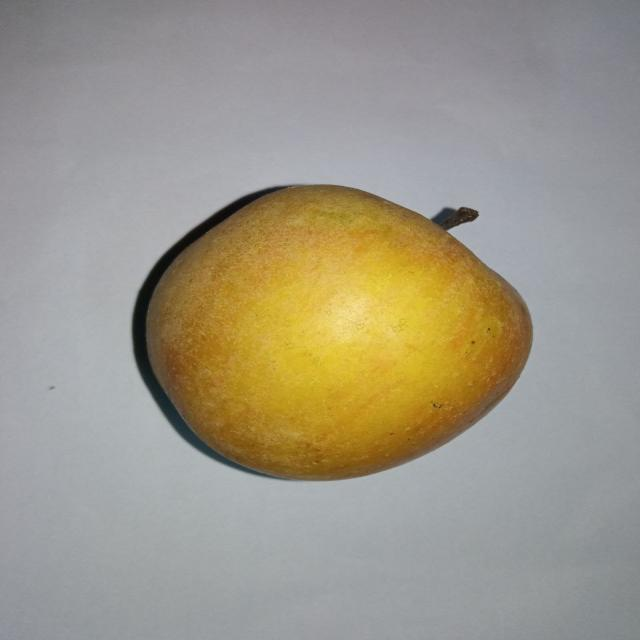fresh_apple: (141, 182, 536, 480)
